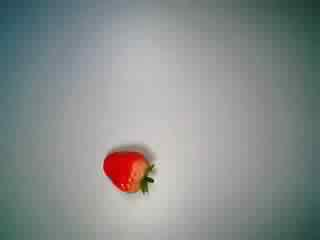strawberry: (95, 138, 161, 204)
